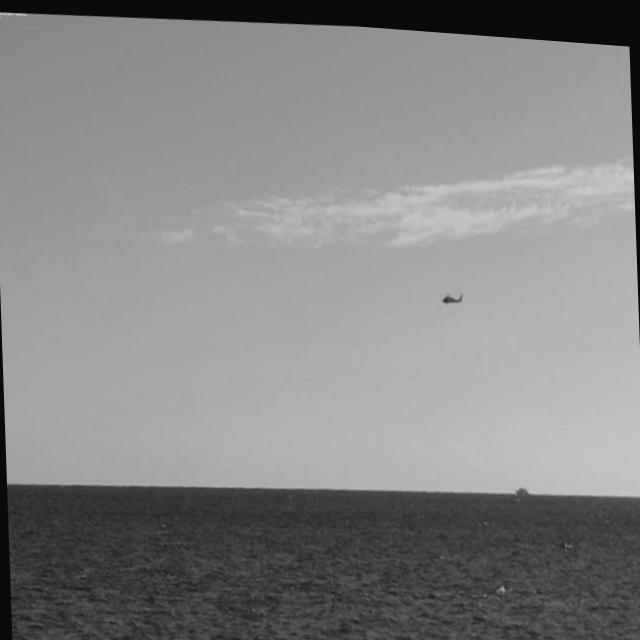helikopter: (423, 259, 485, 323)
